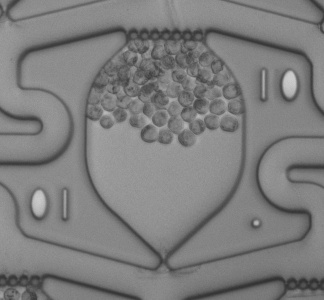AptNum: (244, 63, 306, 108)
Marker: (242, 211, 272, 238)
StNum: (23, 181, 85, 231)
